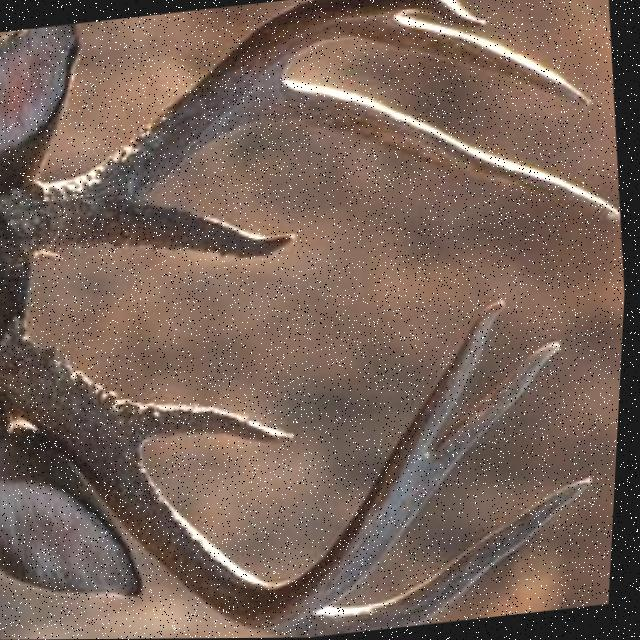L-F: (0, 0, 492, 263)
L-G1: (89, 198, 303, 262)
L-G2: (244, 76, 623, 222)
L-G3: (375, 15, 594, 115)
R-F: (0, 299, 512, 636)
R-G1: (121, 395, 301, 448)
R-G2: (268, 477, 604, 638)
R-G3: (424, 334, 568, 507)
